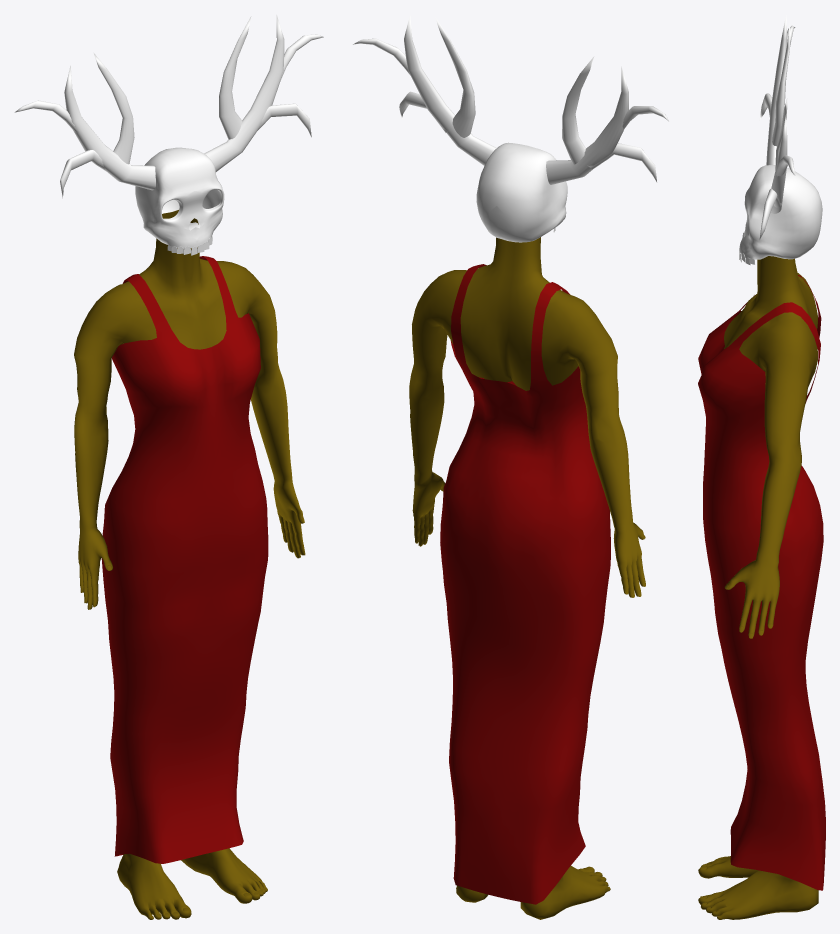
The model's file is Minnie.fbx.
3 renders of one model, left to right at view 1: azimuth 30°, elevation 25°; view 2: azimuth 150°, elevation 25°; view 3: azimuth 270°, elevation 25°, orthographic. The views are drawn at different scales.
Visible parts, largest first — view 1: pPlane21; view 2: pPlane21; view 3: pPlane21.
Boxes of the visible parts, x1=… form: pPlane21: x1=14, y1=15, x2=323, y2=919; pPlane21: x1=353, y1=15, x2=668, y2=919; pPlane21: x1=698, y1=15, x2=825, y2=919.
Bounding box in the file's own units: 25.34 × 66.29 × 9.22.
